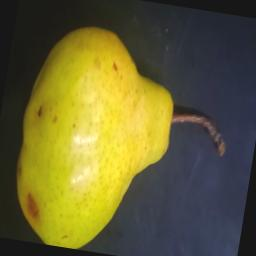Pear Unripe: (3, 15, 250, 256)
